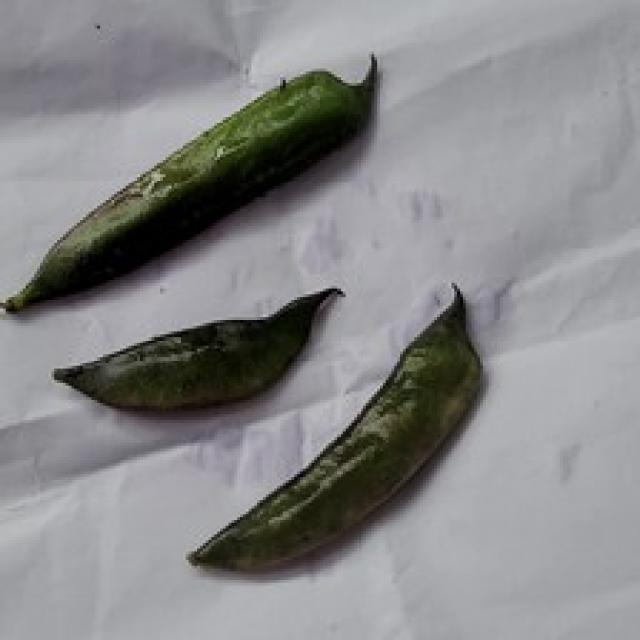Bean: (0, 49, 377, 314), (186, 280, 483, 571), (51, 283, 343, 411)
